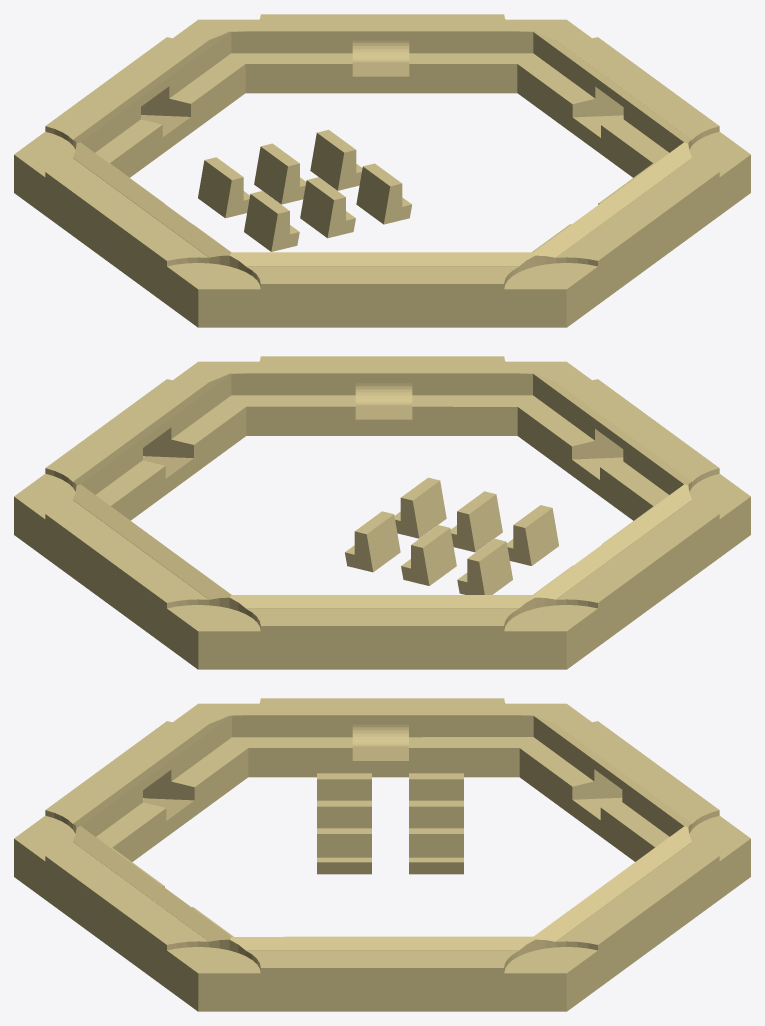
Rendered from base_desert.glb.
3 renders of one model, top to bottom at view 1: azimuth 30°, elevation 25°; view 2: azimuth 150°, elevation 25°; view 3: azimuth 270°, elevation 25°, orthographic.
Visible parts, largest first — view 1: base_desert; view 2: base_desert; view 3: base_desert.
Boxes of the visible parts, x1,y1,x2,y2 form: base_desert: (14,14,750,327); base_desert: (14,356,750,669); base_desert: (14,698,750,1011).
Bounding box in the file's own units: 79 × 6.95 × 91.22.
